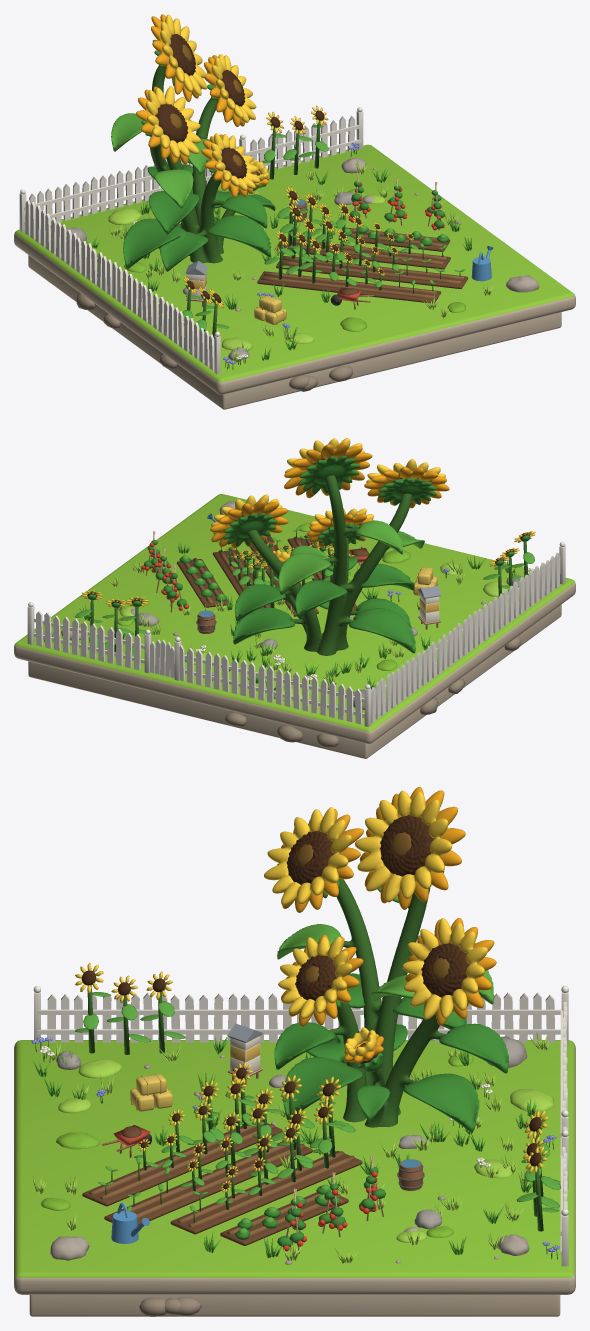
The model's file is sunflower.glb.
3 renders of one model, top to bottom at view 1: azimuth 30°, elevation 25°; view 2: azimuth 150°, elevation 25°; view 3: azimuth 270°, elevation 25°, orthographic. The views are drawn at different scales.
Visible parts, largest first — view 1: Base, Blossoms, Fence, Seedlings, Beds, Grass, Trunk, Rocks, HayBales, Beehive, WateringCan; view 2: Base, Blossoms, Fence, Seedlings, Trunk, Grass, Beds, Rocks, Beehive, HayBales, RainBarrel; view 3: Base, Blossoms, Seedlings, Fence, Beds, Grass, Trunk, Rocks, Beehive, HayBales, WateringCan, Flowers (+2 smaller).
Part boxes in pixels (x1,y1,x2,y2): Base: (14,144,575,409); Blossoms: (111,14,275,271); Fence: (19,107,363,374); Seedlings: (182,105,465,338); Beds: (257,227,468,303); Grass: (81,158,493,362); Trunk: (150,65,247,263); Rocks: (51,157,539,360); HayBales: (254,296,286,324); Beehive: (185,261,209,305); WateringCan: (471,246,493,281); Base: (14,494,575,758); Blossoms: (210,438,449,653); Fence: (27,541,565,726); Seedlings: (75,527,535,655); Trunk: (247,475,412,655); Grass: (78,522,531,717); Beds: (177,535,356,616); Rocks: (61,501,524,709); Beehive: (418,585,441,629); HayBales: (413,567,437,595); RainBarrel: (196,610,216,633); Base: (14,1040,575,1316); Blossoms: (264,787,508,1131); Seedlings: (75,962,560,1253); Fence: (33,986,568,1266); Beds: (82,1119,362,1245); Grass: (32,1032,554,1263); Trunk: (329,878,445,1127); Rocks: (50,1036,529,1264); Beehive: (227,1023,263,1084); HayBales: (130,1073,172,1111); WateringCan: (111,1202,149,1243); Flowers: (31,1037,560,1259).
Bounding box in the file's own units: 72 × 50.47 × 72.
